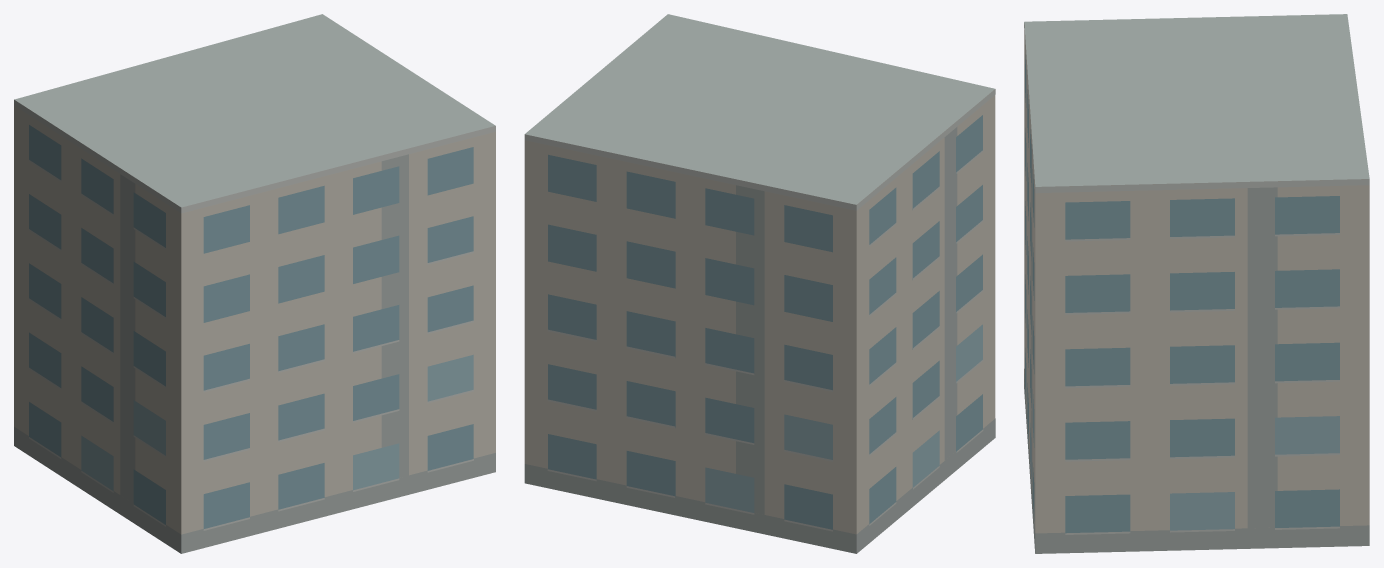
Rendered from survey-upis-32912754.glb.
3 renders of one model, left to right at view 1: azimuth 30°, elevation 25°; view 2: azimuth 150°, elevation 25°; view 3: azimuth 270°, elevation 25°, orthographic. The views are drawn at different scales.
Visible parts, largest first — view 1: survey-upis-32912754.tmp; view 2: survey-upis-32912754.tmp; view 3: survey-upis-32912754.tmp.
Boxes of the visible parts, x1,y1,x2,y2 form: survey-upis-32912754.tmp: (14, 14, 495, 553); survey-upis-32912754.tmp: (524, 14, 995, 553); survey-upis-32912754.tmp: (1024, 14, 1369, 553).
Bounding box in the file's own units: 14.46 × 14.3 × 12.21.
